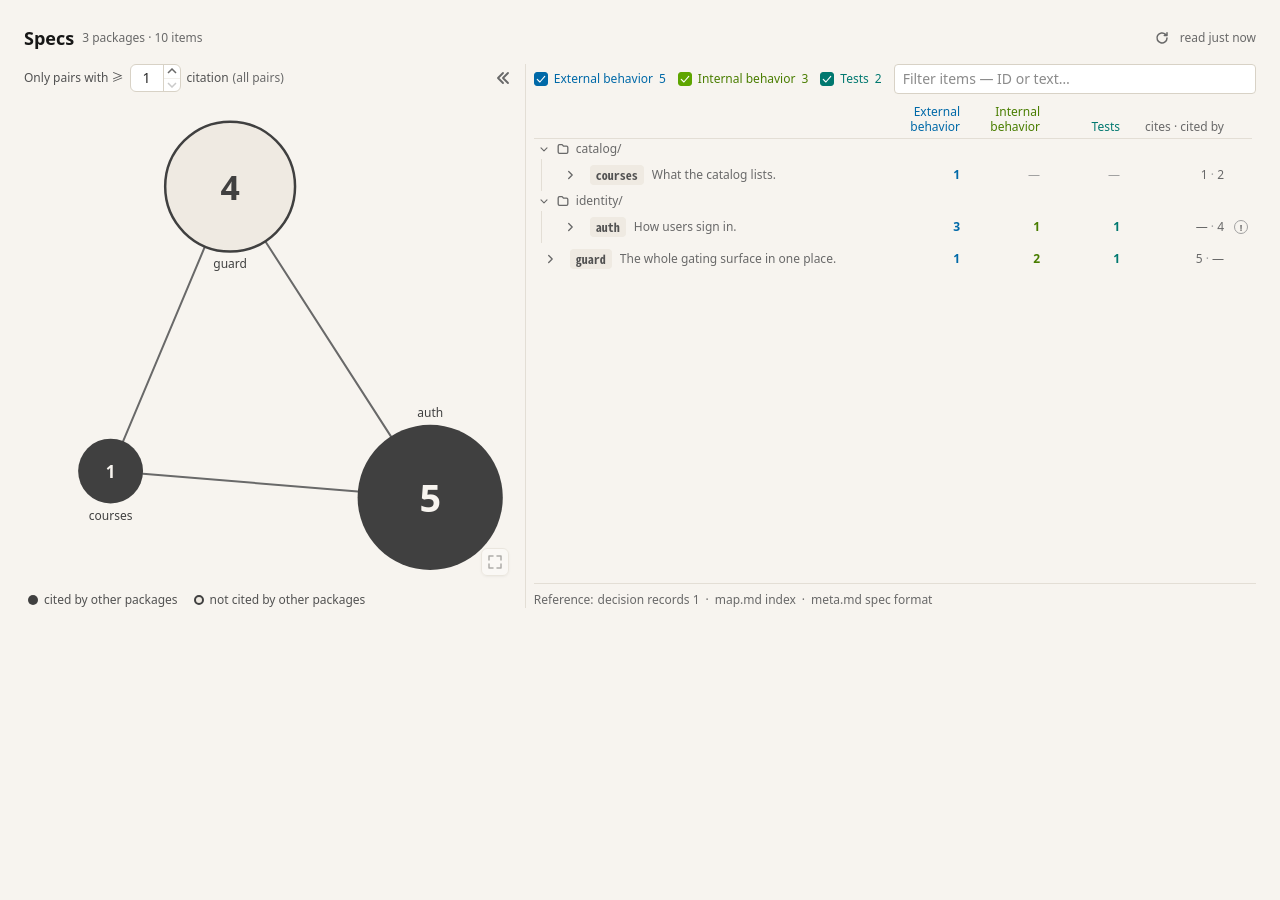
SPECV-19/37: citation rows and backlinks › an inline dead citation says not found and never navigates
Click the button "guard The whole gating surface in one place.".
click(725, 259)  # box [570,249,880,269]
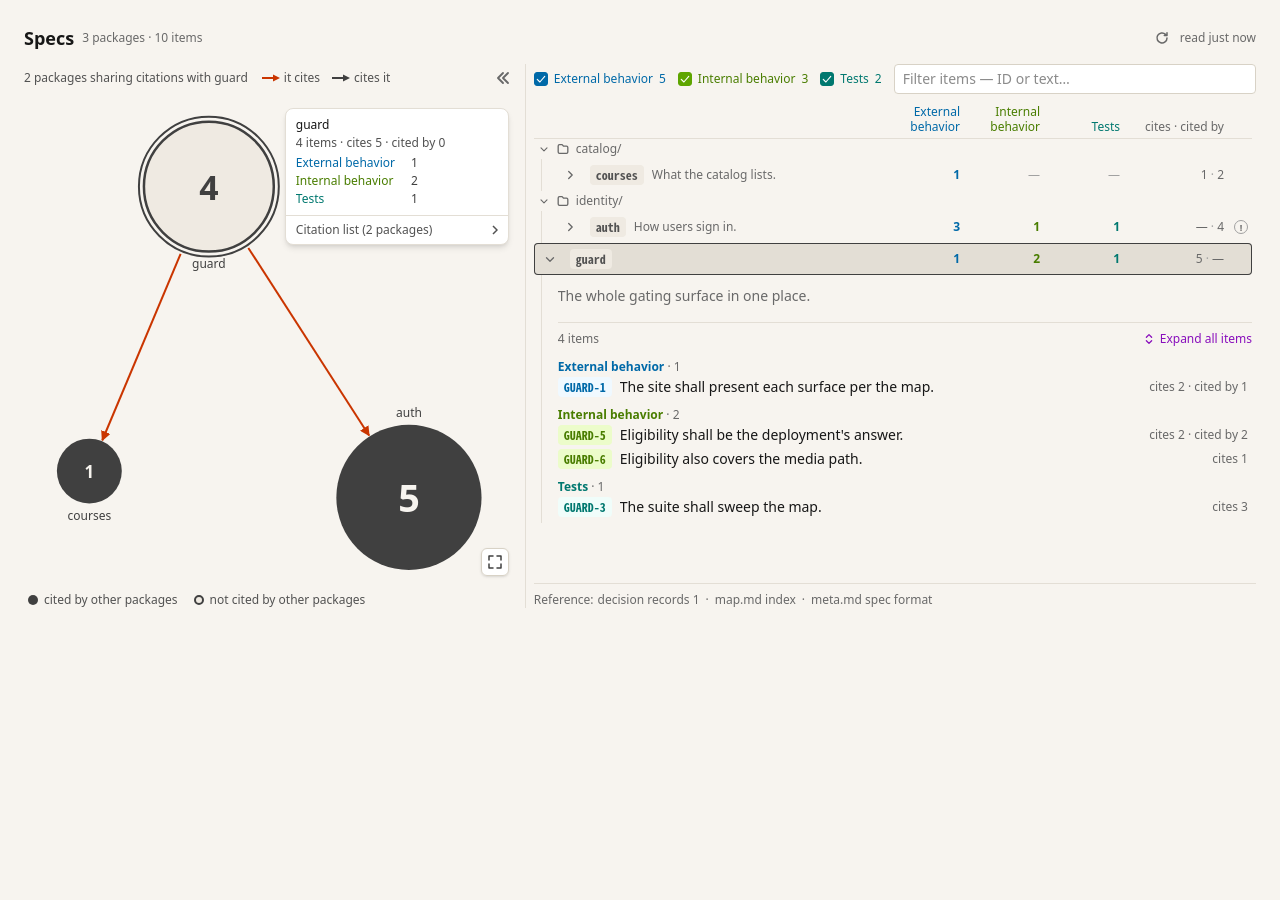
Click the button with test id "item-toggle-GUARD-5".
click(878, 435)  # box [620,425,1137,445]
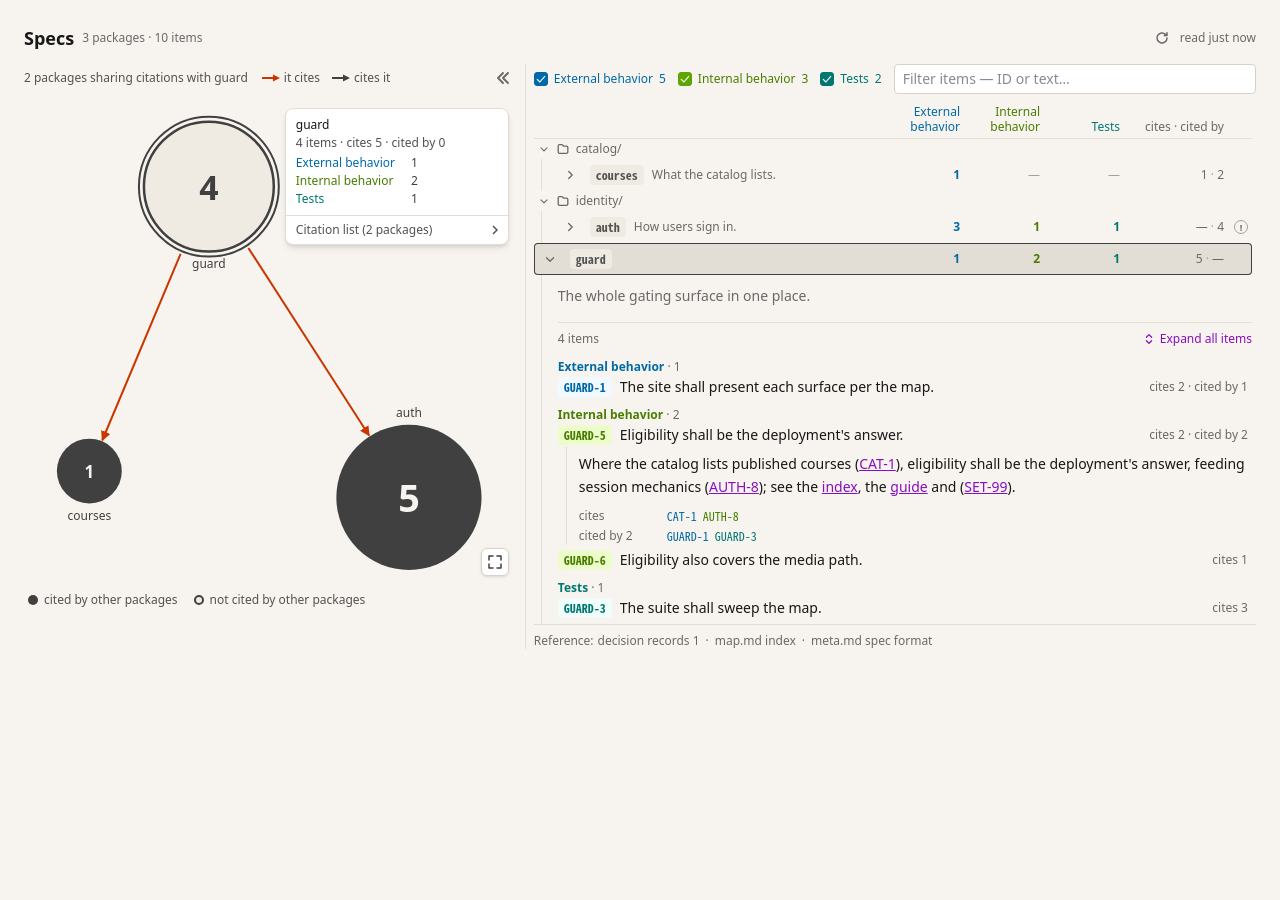
Note: SET-99 is citation-shaped but neither an item nor a record.
Click the link "SET-99".
click(986, 486)  # box [964,476,1008,496]
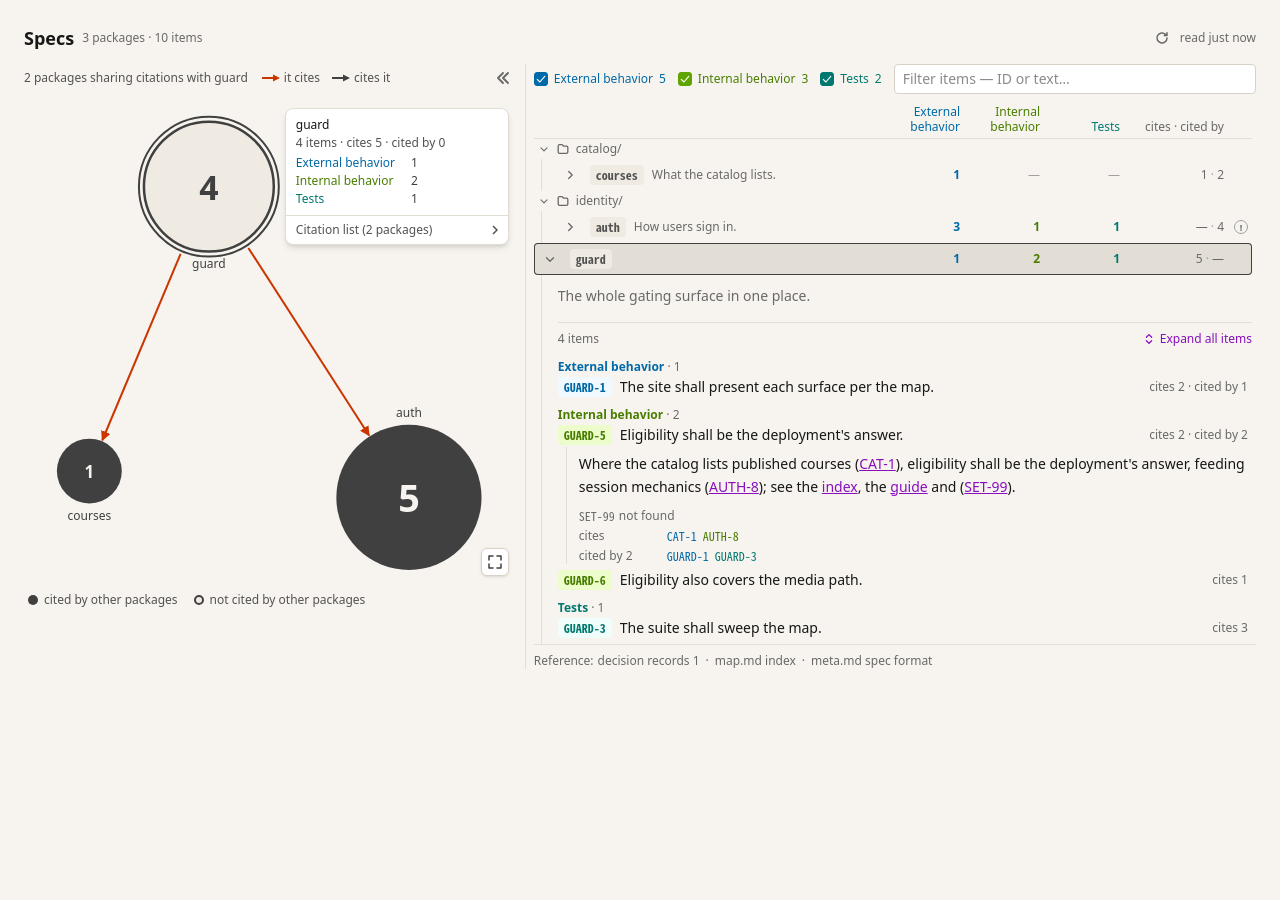
Result: the text "not found" is shown at [619,508,674,524]
